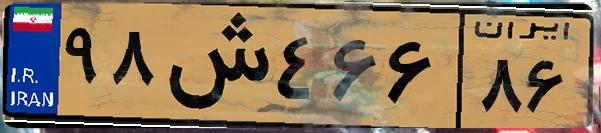4: (270, 28, 330, 110)
6: (385, 28, 445, 110), (330, 28, 385, 110), (525, 38, 570, 115)
8: (475, 38, 525, 113), (110, 28, 158, 98)
9: (57, 26, 110, 100)
ش: (158, 12, 270, 120)
